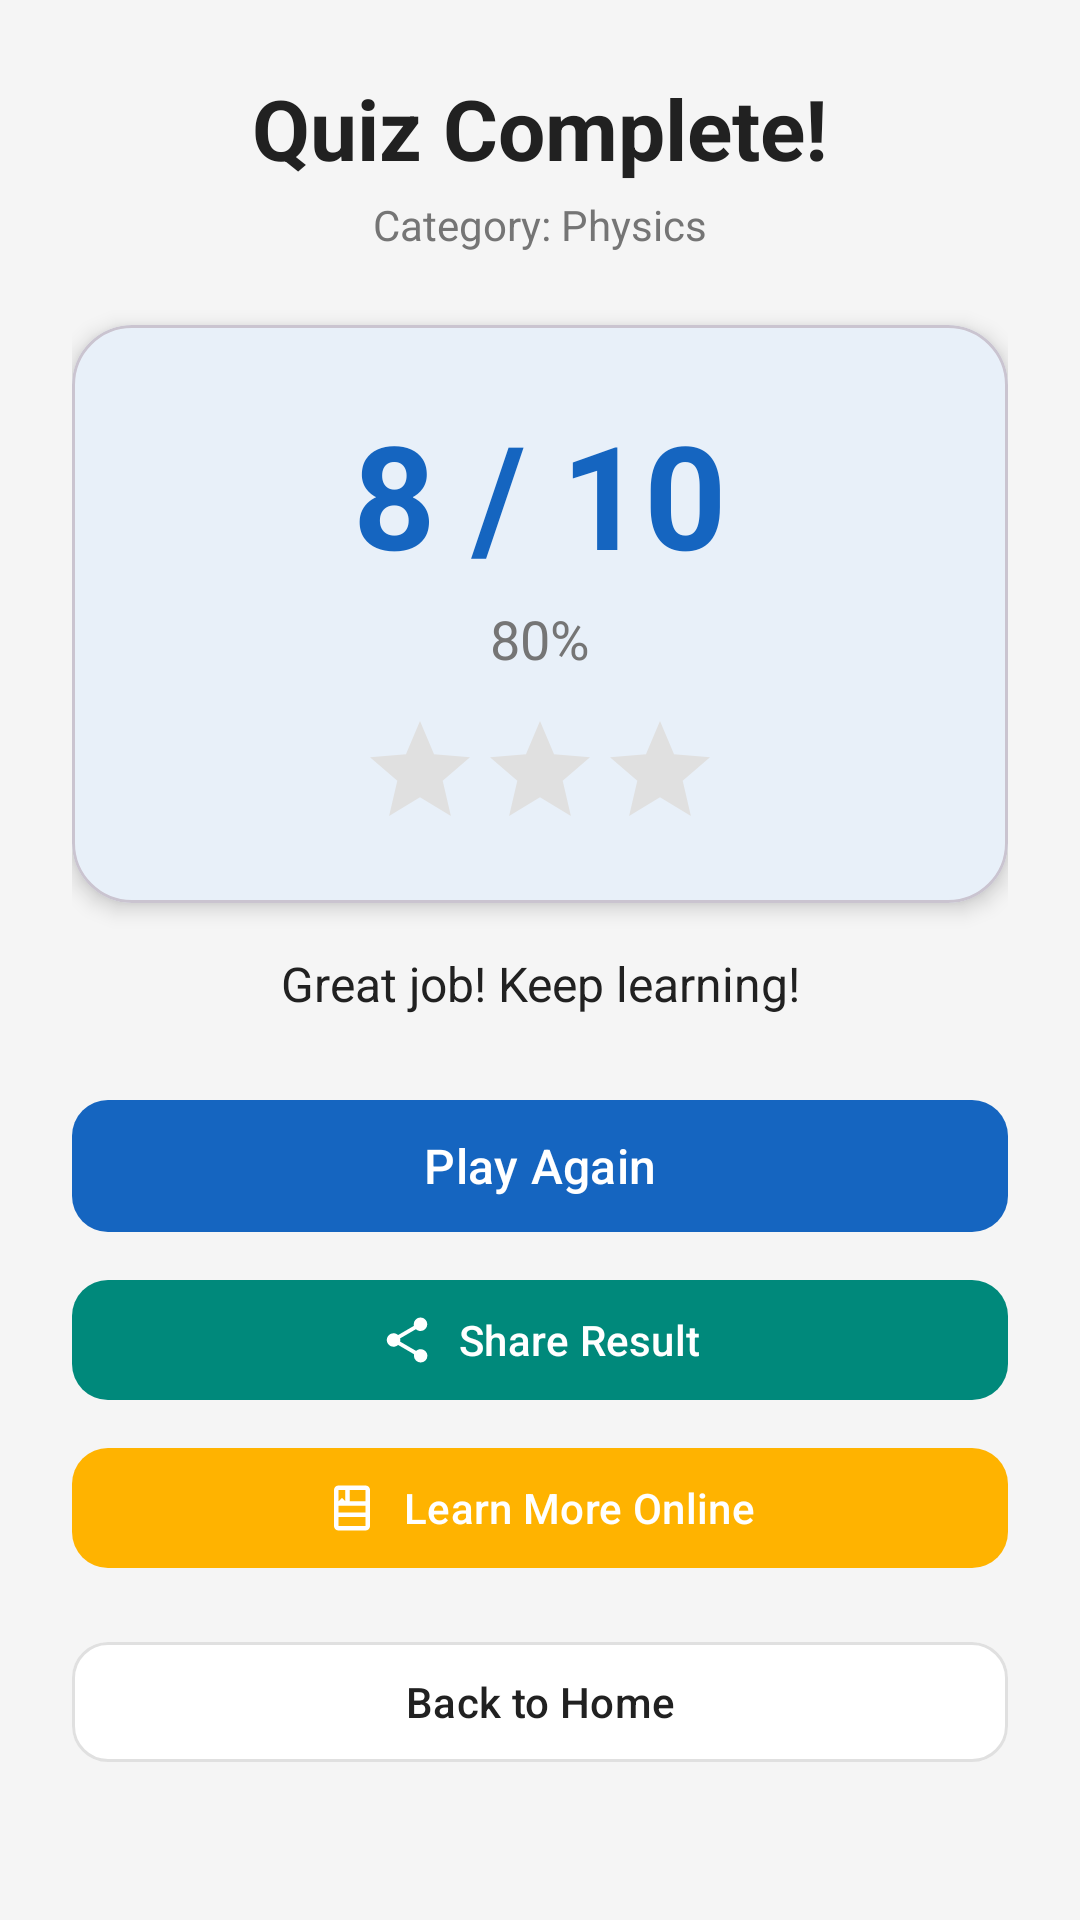

Screen size 1080px x 1920px. Icon name, then its box in pixels as (x1,y1,x2,y2):
star empty: (372,723,468,815), (492,723,588,815), (612,723,708,815)
